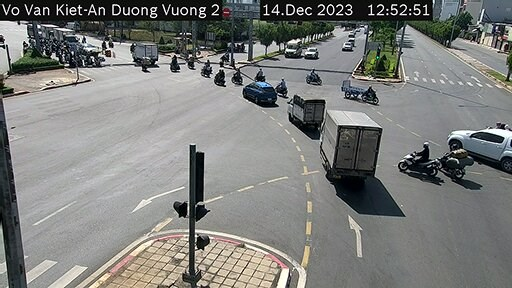car: (449, 118, 512, 171), (243, 80, 272, 110)
motorbike: (405, 138, 440, 178), (272, 71, 293, 95), (198, 60, 213, 86), (306, 61, 323, 83), (208, 67, 225, 87), (230, 63, 243, 85), (247, 66, 265, 79)
truck: (314, 109, 381, 177), (280, 92, 325, 129), (127, 41, 154, 64)
